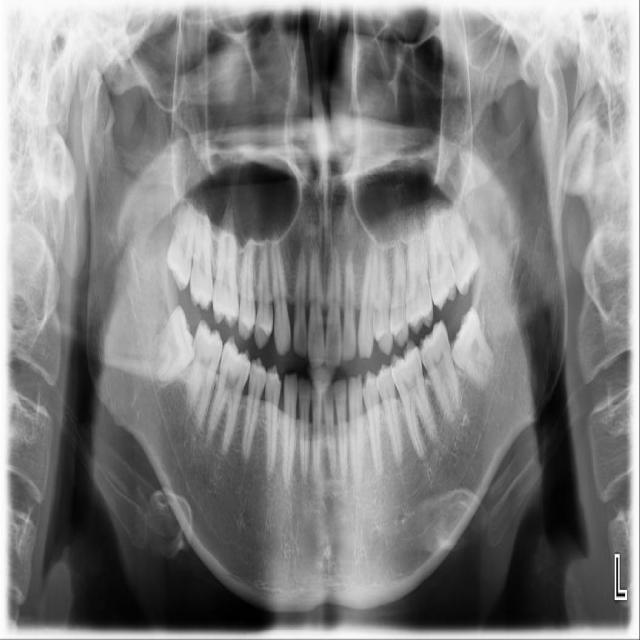impacted tooth: (451, 306, 498, 391)
